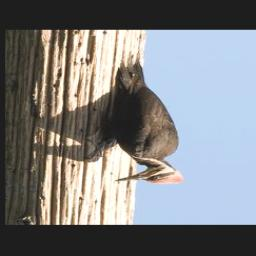Woodpecker: (86, 56, 185, 184)
